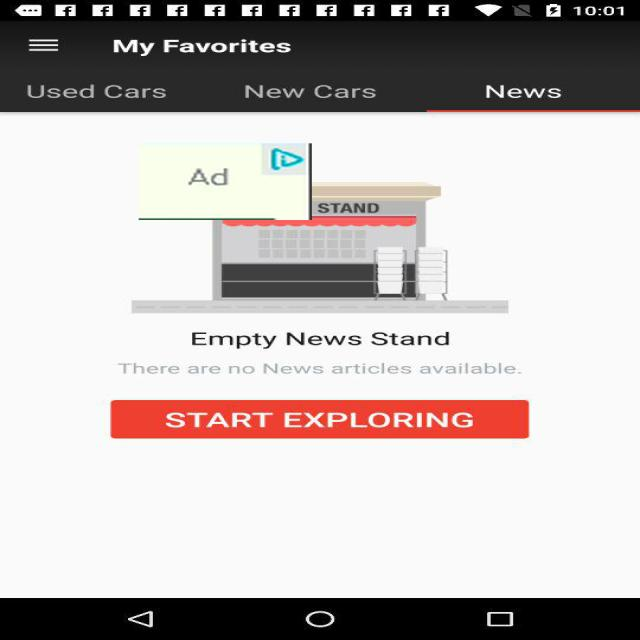sneaking: (138, 143, 312, 220)
